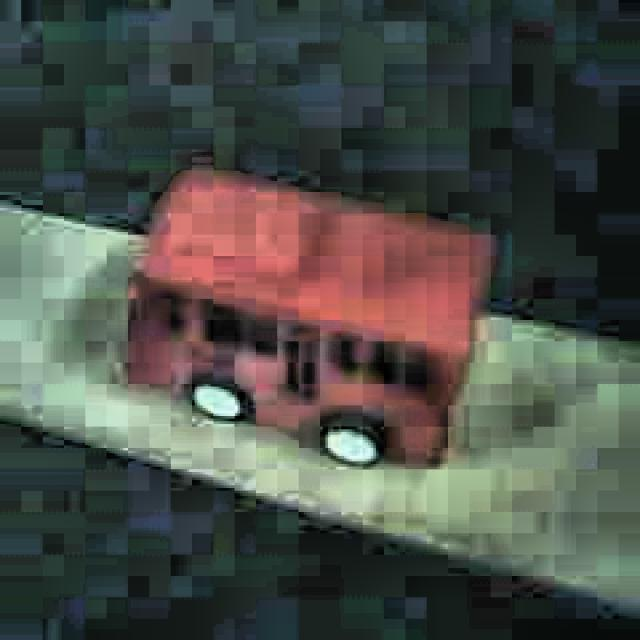bus: (119, 160, 490, 475)
